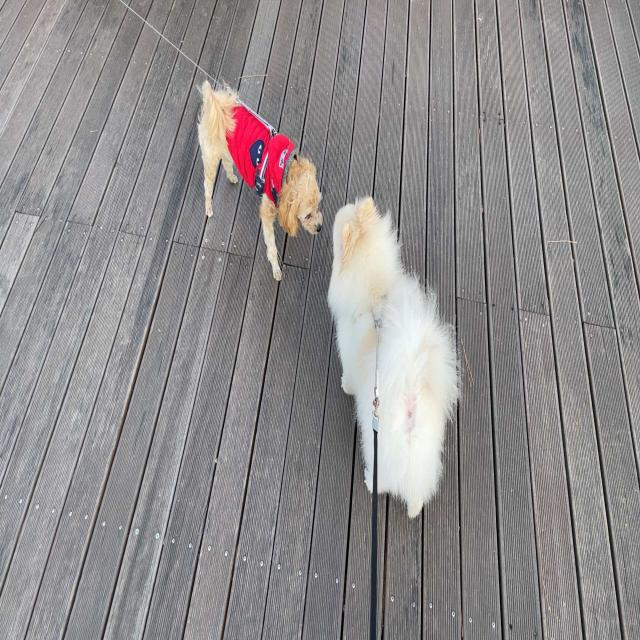Dog: (327, 196, 458, 520), (197, 79, 323, 282)
